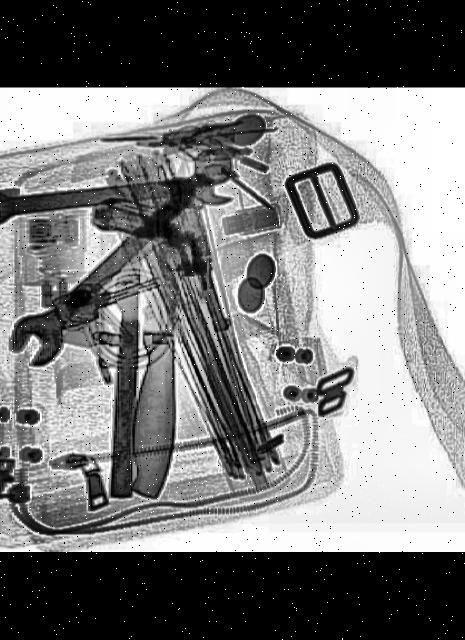Gun: (84, 181, 231, 344)
Knife: (121, 160, 204, 496), (98, 156, 151, 496)
Wrench: (0, 134, 246, 371), (0, 161, 232, 225)
